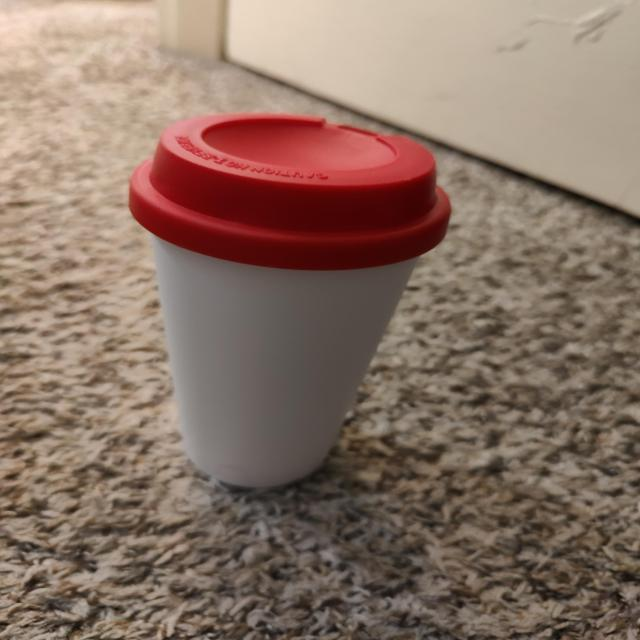mug: (132, 116, 442, 493)
